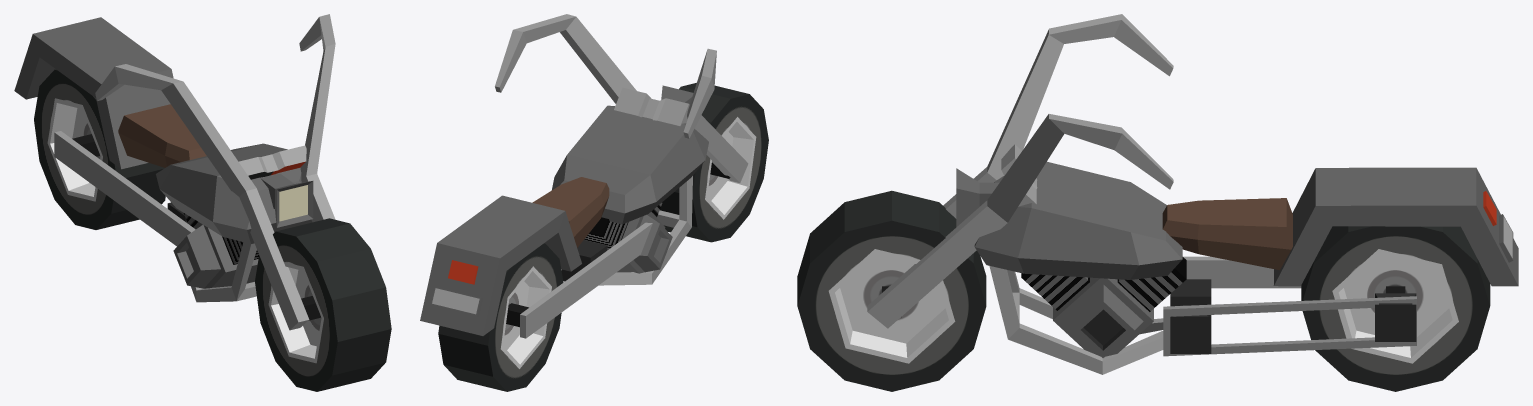
The model's file is Chopper.fbx.
3 renders of one model, left to right at view 1: azimuth 30°, elevation 25°; view 2: azimuth 150°, elevation 25°; view 3: azimuth 270°, elevation 25°, orthographic. The views are drawn at different scales.
Parts seen in each view (by area): view 1: Chopper, WheeF, Handle, WheelB; view 2: Chopper, WheelB, Handle, WheeF; view 3: Chopper, WheeF, WheelB, Handle.
Boxes of the visible parts, <box> form: Chopper: <box>14,17,312,302</box>; WheeF: <box>255,218,391,391</box>; Handle: <box>95,14,335,330</box>; WheelB: <box>34,69,165,229</box>; Chopper: <box>420,105,708,338</box>; WheelB: <box>438,243,563,391</box>; Handle: <box>495,14,748,182</box>; WheeF: <box>660,83,768,242</box>; Chopper: <box>974,161,1518,374</box>; WheeF: <box>797,190,986,391</box>; WheelB: <box>1301,226,1490,391</box>; Handle: <box>867,14,1173,328</box>.
Size of the model in its own units: 122 by 144 by 311.
